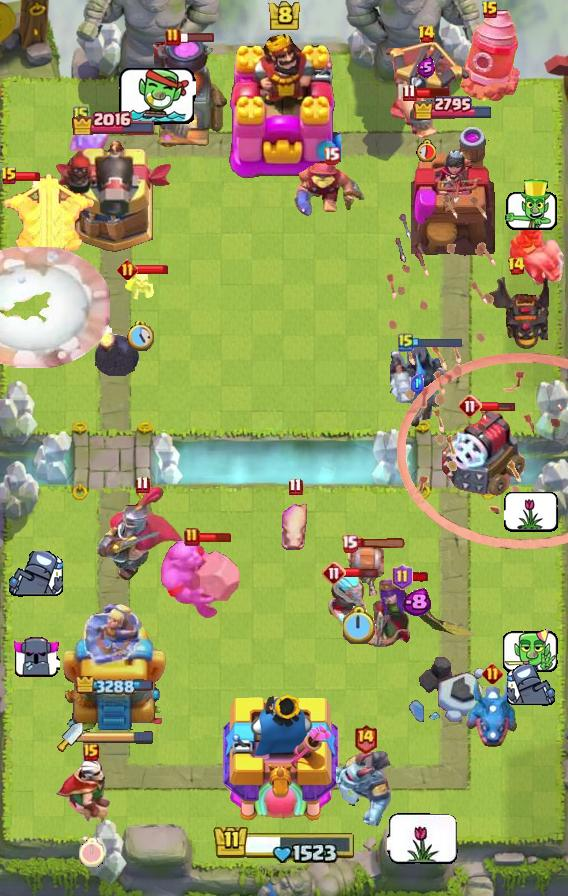archer-evolution: (483, 273, 549, 351)
archer-queen: (158, 537, 244, 621)
baby-dragon: (94, 317, 140, 376)
bar: (59, 595, 169, 731)
barbarian-hut: (355, 577, 477, 647)
clock: (212, 821, 356, 863)
electro-spirit: (401, 588, 430, 616), (417, 57, 435, 79), (411, 374, 424, 392)
elite-barbarian: (508, 211, 568, 287)
elixir: (343, 606, 377, 644), (127, 321, 154, 351), (80, 838, 105, 867), (416, 139, 436, 162)
elixir-golem-small: (336, 751, 394, 829)
emote: (413, 336, 464, 348), (355, 539, 407, 550), (413, 86, 450, 99), (344, 566, 380, 579), (179, 31, 215, 43), (480, 400, 516, 412), (7, 171, 41, 182), (135, 264, 169, 275), (198, 532, 232, 543), (411, 571, 430, 583)
executioner: (397, 88, 439, 146)
fireball: (293, 157, 369, 219)
giant: (279, 500, 311, 552)
golem: (440, 408, 526, 498)
graveyard: (465, 677, 519, 749)
heal-spirit: (125, 268, 155, 302)
hunter: (141, 40, 229, 150)
inferno-dragon: (387, 341, 447, 431)
king-tower: (227, 29, 341, 181), (223, 689, 345, 826)
king-tower-bar: (83, 730, 155, 744)
knight: (334, 545, 384, 599)
lava-pup: (0, 174, 98, 256), (382, 41, 470, 123)
magic-archer: (460, 8, 520, 102)
mirror: (67, 118, 113, 160)
mortar: (327, 569, 371, 631)
queen-tower: (411, 122, 495, 256)
selected: (71, 109, 157, 136), (412, 94, 494, 120), (75, 675, 152, 697)
skeleton: (118, 64, 196, 126), (387, 812, 459, 864), (503, 179, 559, 233), (502, 625, 560, 675), (9, 551, 63, 597), (504, 492, 558, 533), (12, 637, 60, 679), (507, 665, 555, 707)
skeleton-barrel: (384, 193, 567, 552)
skeleton-king: (52, 758, 130, 826)
text: (353, 723, 378, 754), (458, 394, 482, 418), (322, 561, 346, 585), (392, 564, 413, 590), (481, 663, 502, 685), (117, 259, 138, 280), (416, 24, 436, 44), (507, 256, 526, 276), (481, 0, 499, 20), (0, 166, 18, 186), (323, 147, 341, 165), (341, 535, 359, 553), (165, 27, 181, 47), (73, 105, 89, 125), (398, 332, 414, 352), (184, 527, 200, 547), (83, 743, 99, 761), (289, 477, 304, 496), (403, 83, 417, 102), (135, 475, 149, 494)
tower-bar: (53, 138, 175, 256)
wall-breaker: (0, 247, 110, 369)
wall-breaker-evolution: (96, 483, 188, 583)
